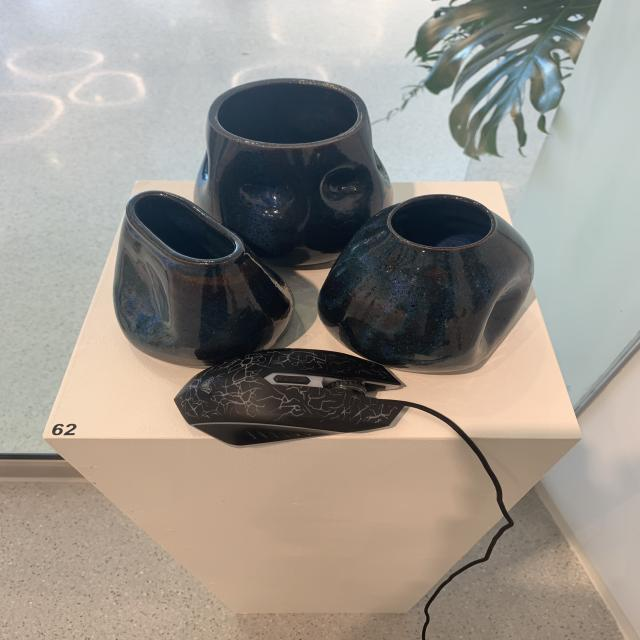Mouse: (168, 345, 444, 445)
